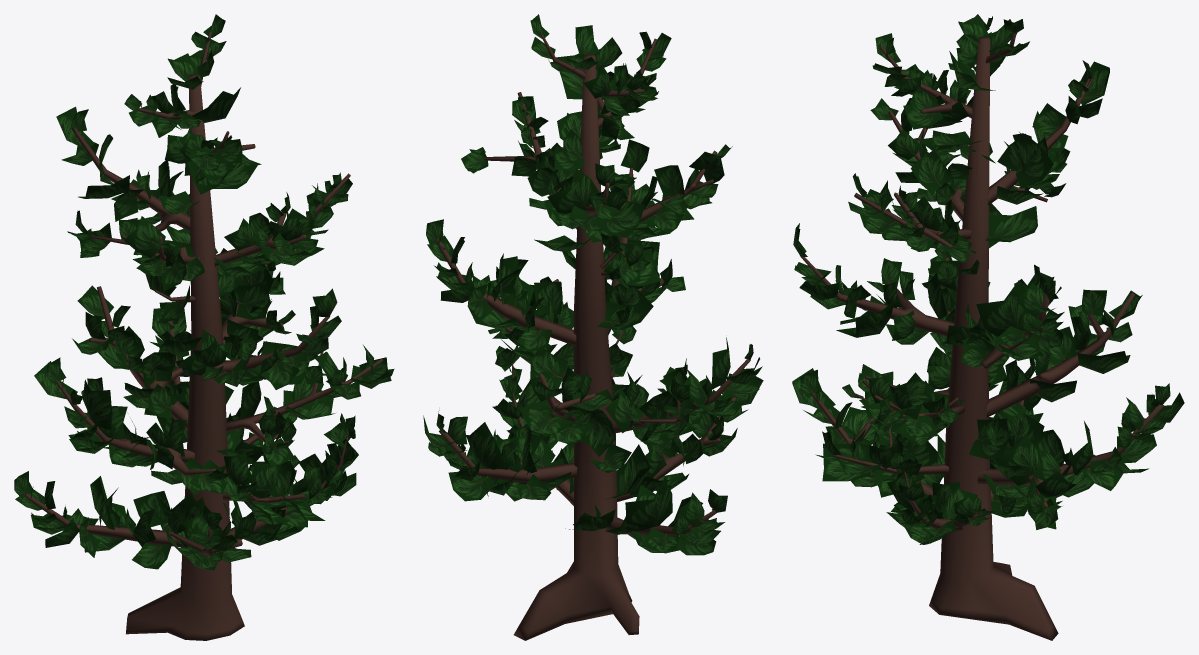
File: tree3.glb
3 views of the same model, side by side, from view 1: azimuth 30°, elevation 25°; view 2: azimuth 150°, elevation 25°; view 3: azimuth 270°, elevation 25° (orthographic). The views are drawn at different scales.
Parts seen in each view (by area): view 1: leaves, trunk-col; view 2: leaves, trunk-col; view 3: leaves, trunk-col.
Part boxes in pixels (left/top/right/bottom): leaves: left=14, top=14, right=394, bottom=570; trunk-col: left=24, top=31, right=383, bottom=640; leaves: left=423, top=14, right=763, bottom=555; trunk-col: left=435, top=33, right=750, bottom=640; leaves: left=792, top=14, right=1184, bottom=544; trunk-col: left=800, top=33, right=1163, bottom=640.
Bounding box in the file's own units: 16 × 29.3 × 16.78.
Materials: 1 (1 with a texture image).
